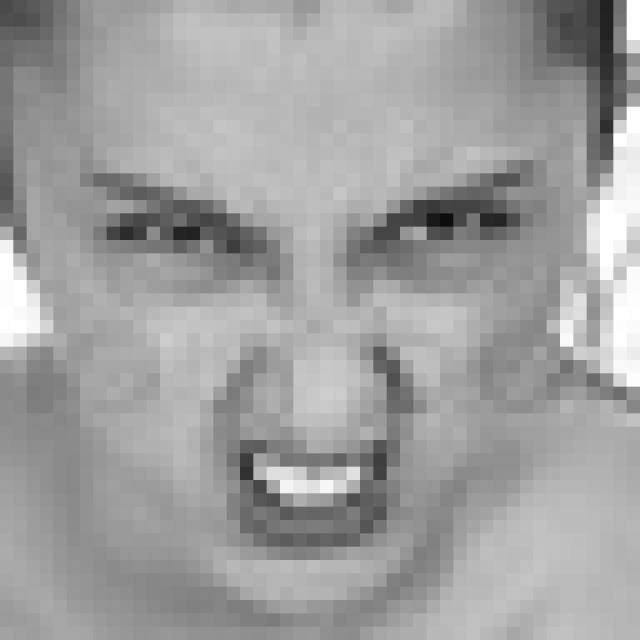angry: (74, 156, 544, 558)
